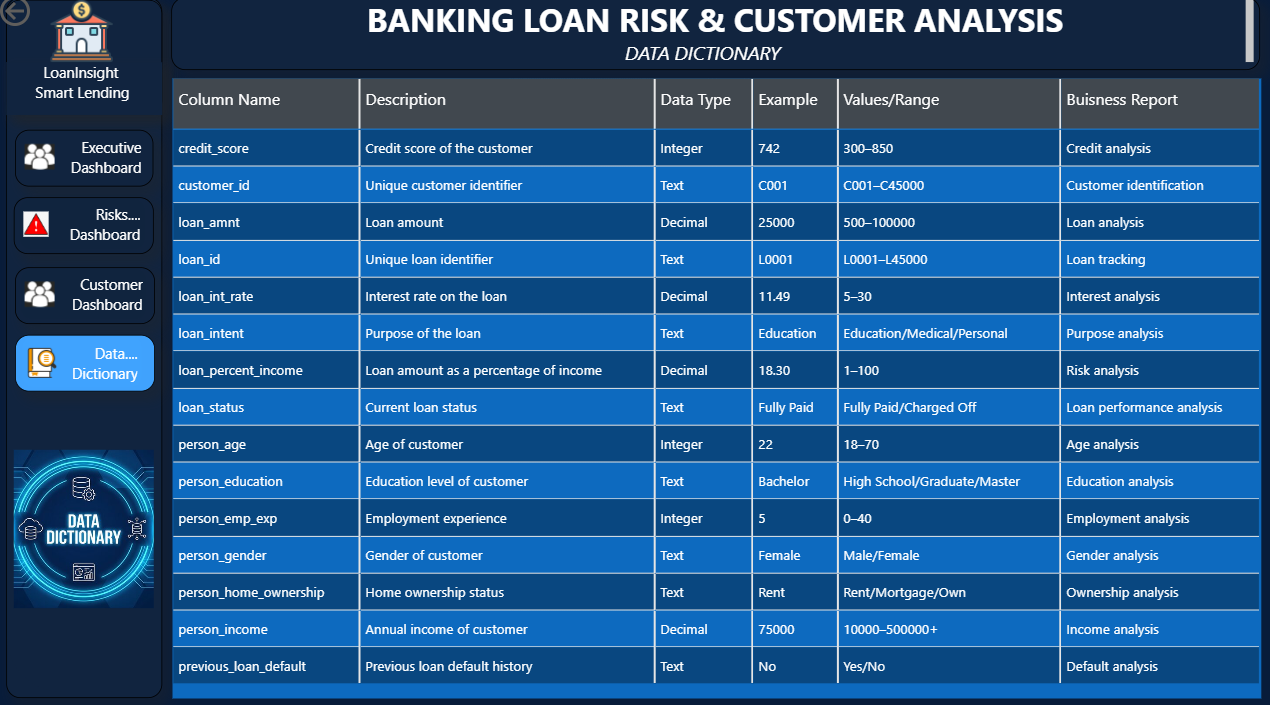

This screenshot's page, from the dashboard's own definition file:
{"tool":"powerbi","page":{"name":"Data Dictionary","canvas":[1280,720],"ordinal":3},"visuals":[{"type":"shape","box":[10.9,6,155.6,700.9],"z":0},{"type":"shape","box":[11.2,8.8,156.2,115],"z":1000},{"type":"image","box":[44.6,8.4,83.2,62.7],"z":2000},{"type":"textbox","box":[10.9,71.2,155.6,53.1],"z":3000},{"type":"actionButton","box":[20.5,138.7,138.7,56.7],"z":4000},{"type":"actionButton","box":[19.3,206.3,139.9,56.7],"z":5000},{"type":"actionButton","box":[20.5,276.3,139.9,56.7],"z":6000},{"type":"actionButton","box":[20.5,343.8,139.9,56.7],"z":7000},{"type":"textbox","box":[176.2,6.2,1088.8,72.5],"z":8000},{"type":"actionButton","box":[0,0,100,40],"z":9000},{"type":"tableEx","fields":{"Values":["Table.Column Name","Table.Description","Table.Data Type","Table.Example","Table.Values/Range","Table.Buisness Report"]},"box":[177.5,87.5,1088.8,620],"z":10000},{"type":"image","box":[18.8,458.8,140,158.8],"z":11000}]}

Visuals, with their boxes on the page's 1280x720 design canvas (x1, y1, x2, y2). These are canvas units, not pixel positions in the 1270x705 screenshot, which may show the page scaled, cropped or inside an application window:
shape: {"x1": 11, "y1": 6, "x2": 166, "y2": 707}
shape: {"x1": 11, "y1": 9, "x2": 167, "y2": 124}
image: {"x1": 45, "y1": 8, "x2": 128, "y2": 71}
textbox: {"x1": 11, "y1": 71, "x2": 166, "y2": 124}
actionButton: {"x1": 20, "y1": 139, "x2": 159, "y2": 195}
actionButton: {"x1": 19, "y1": 206, "x2": 159, "y2": 263}
actionButton: {"x1": 20, "y1": 276, "x2": 160, "y2": 333}
actionButton: {"x1": 20, "y1": 344, "x2": 160, "y2": 400}
textbox: {"x1": 176, "y1": 6, "x2": 1265, "y2": 79}
actionButton: {"x1": 0, "y1": 0, "x2": 100, "y2": 40}
tableEx - Table.Column Name x Table.Description: {"x1": 178, "y1": 88, "x2": 1266, "y2": 708}
image: {"x1": 19, "y1": 459, "x2": 159, "y2": 618}
